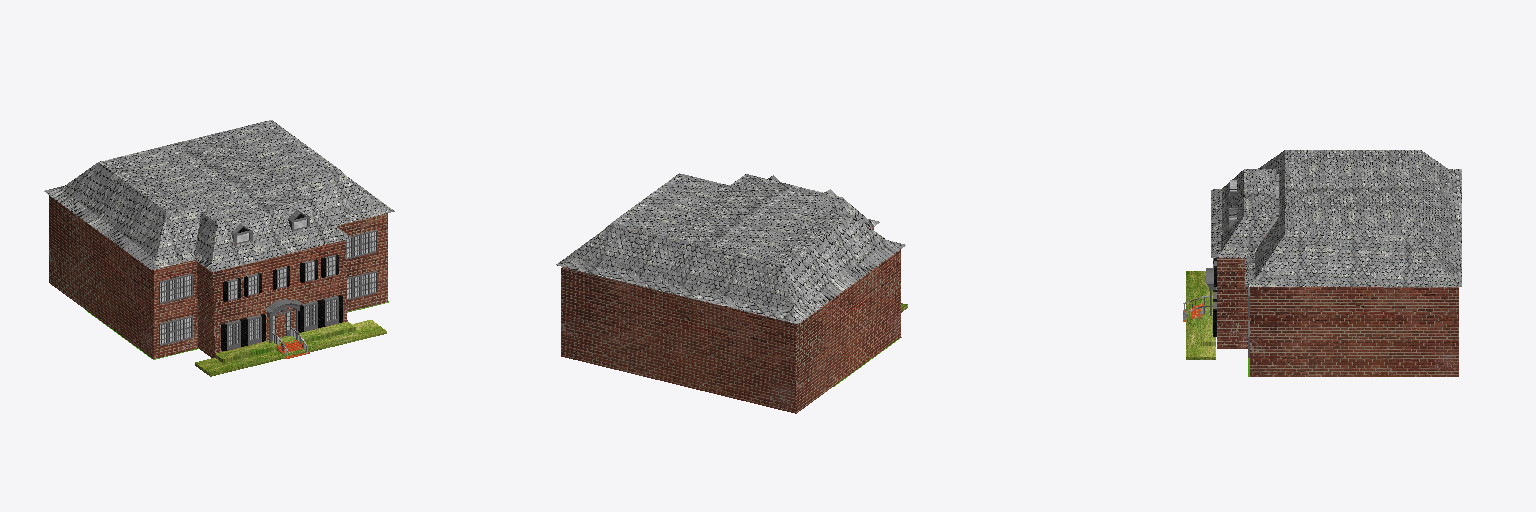
3 views of the same model, side by side, from view 1: azimuth 30°, elevation 25°; view 2: azimuth 150°, elevation 25°; view 3: azimuth 270°, elevation 25° (orthographic).
Parts seen in each view (by area): view 1: roofObj, main, entranceFloor, Window1_frame, Window1_frame001; view 2: roofObj, main; view 3: roofObj, main, entranceFloor.
Part boxes in pixels (x1,y1,x2,y2): roofObj: (44,120,394,271); main: (49,195,387,358); entranceFloor: (195,320,386,376); Window1_frame: (159,274,192,303); Window1_frame001: (159,316,192,345); roofObj: (556,173,905,323); main: (561,227,900,413); roofObj: (1211,150,1461,286); main: (1217,230,1458,376); entranceFloor: (1186,271,1215,359).
Size of the model in its own units: 205 by 103 by 267.
17 materials, 14 textured.